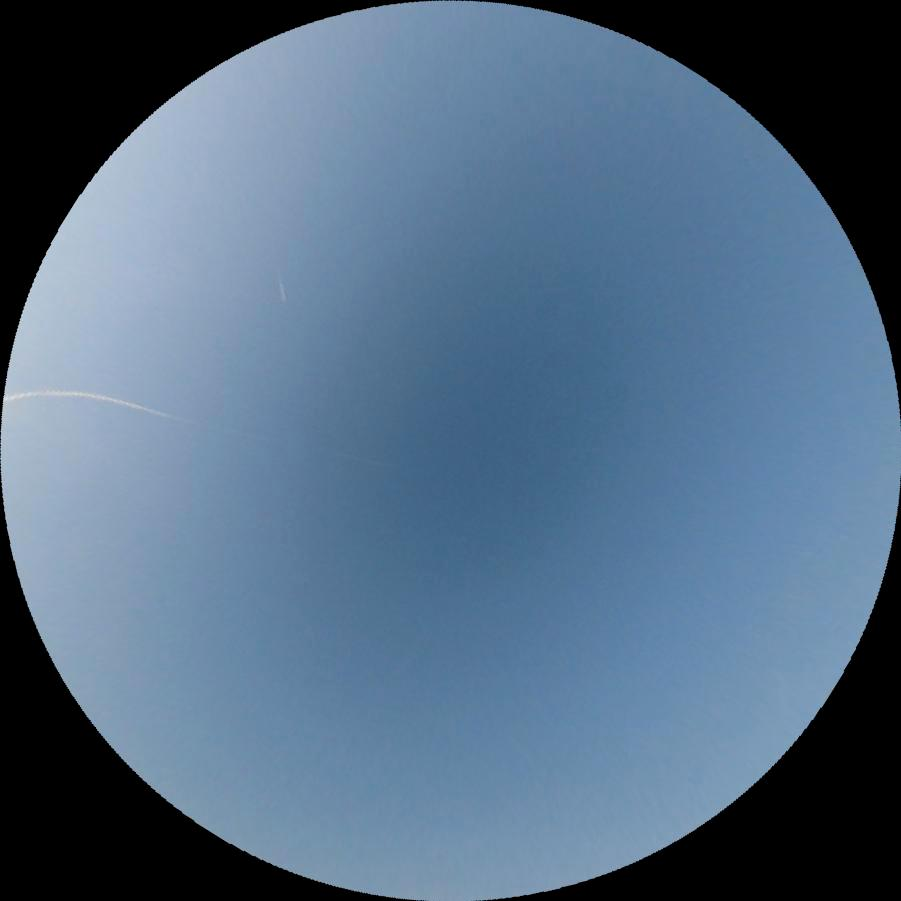contrail old: (4, 377, 397, 467)
contrail young: (274, 269, 287, 304)
